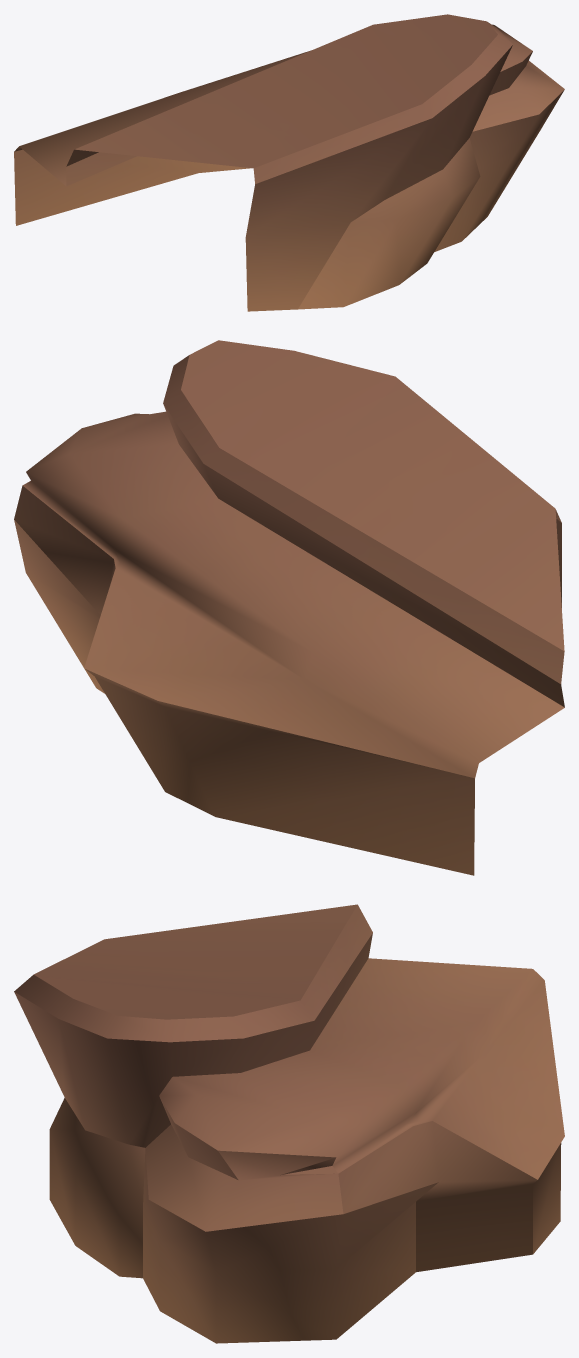
The model's file is bloc_rocheux04.FBX.
The picture shows the model from 3 angles, top to bottom: view 1: azimuth 30°, elevation 25°; view 2: azimuth 150°, elevation 25°; view 3: azimuth 270°, elevation 25°; orthographic projection. The views are drawn at different scales.
Parts seen in each view (by area): view 1: bloc_rocheux04; view 2: bloc_rocheux04; view 3: bloc_rocheux04.
Boxes of the visible parts, x1,y1,x2,y2 form: bloc_rocheux04: (14,14,564,311); bloc_rocheux04: (14,340,564,875); bloc_rocheux04: (14,904,564,1343).
Bounding box in the file's own units: 81.13 × 37.63 × 59.54.
